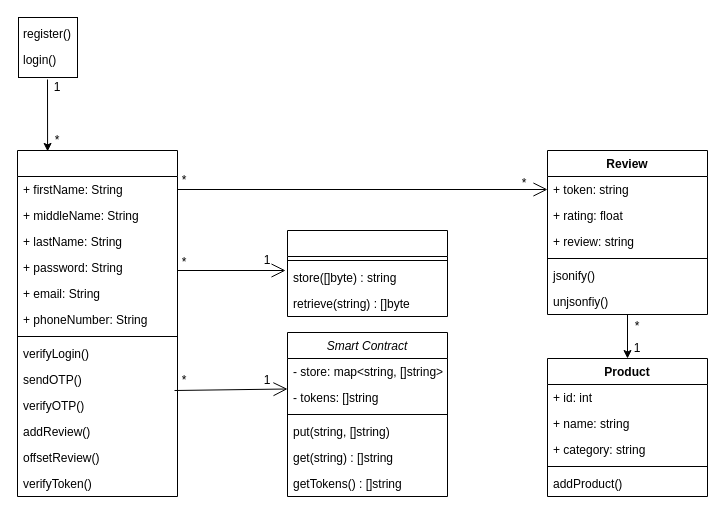
Some shapes in this 725 by 517 pixel diagram are drawn without their labels. The box of each missing label's shape, as (x1, y1, x2, y2) in pixels:
IPFS Network: (286, 230, 448, 316)
User: (16, 150, 178, 496)
